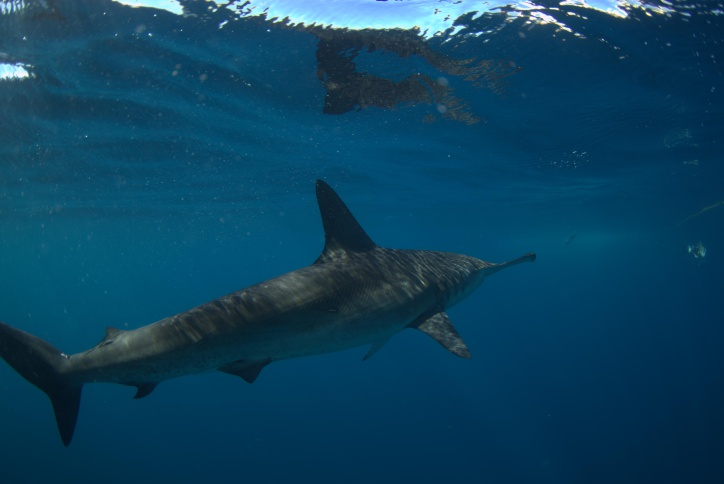Hammer: (1, 173, 554, 468)
